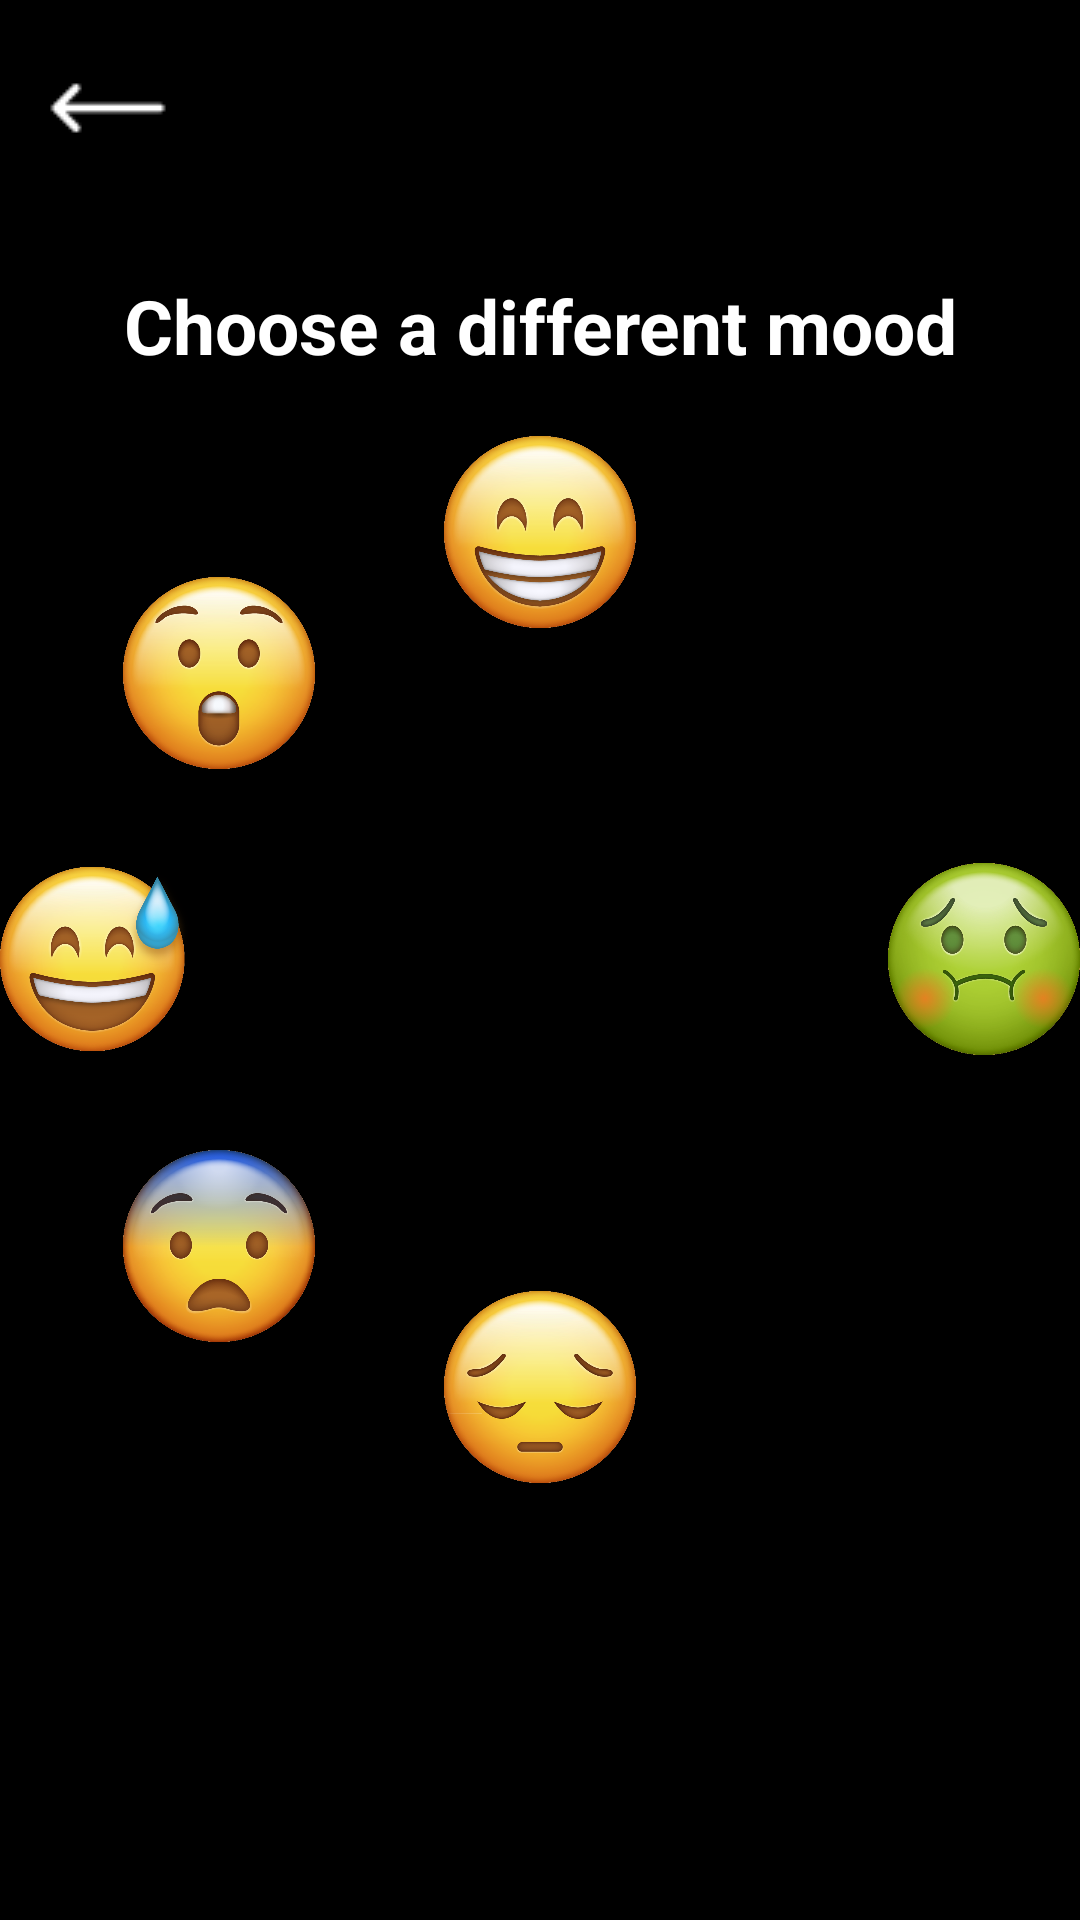

Where icons sit on this 1080w x 1920h app screen, as (x1, y1, x2, y2):
back: (50, 83, 166, 133)
Disgust: (888, 863, 1080, 1055)
Fear: (123, 1150, 315, 1342)
Happy: (444, 436, 636, 628)
Sad: (444, 1291, 636, 1483)
Shame: (0, 867, 185, 1051)
Surprise: (123, 577, 315, 769)
